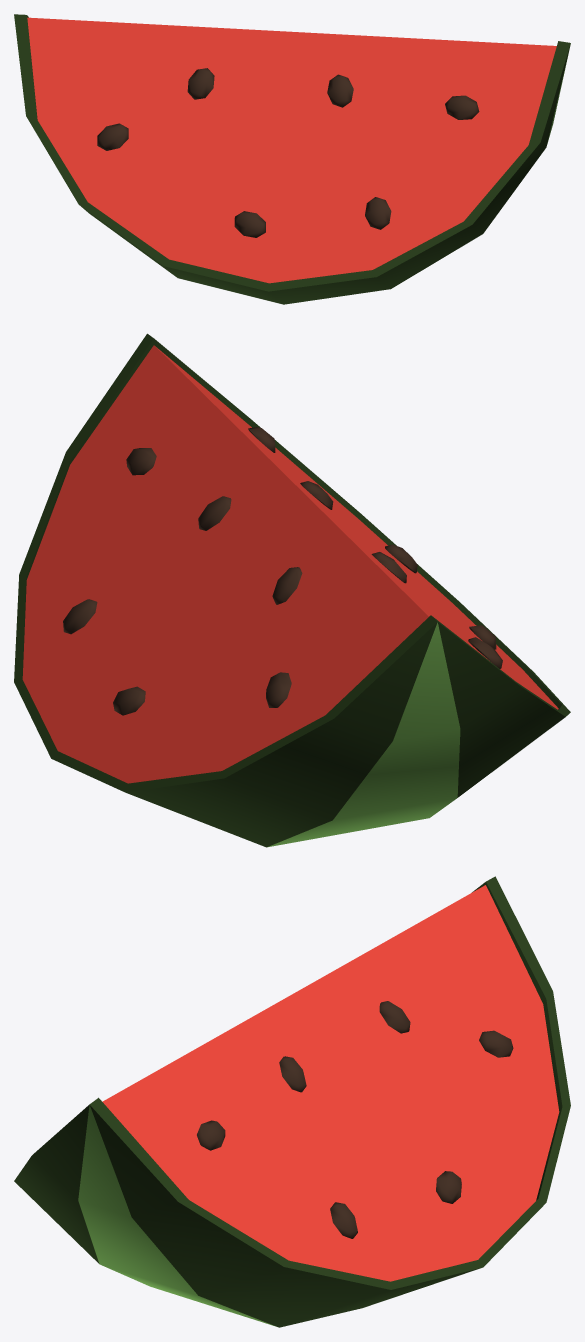
Rendered from Watermelon.fbx.
The picture shows the model from 3 angles, top to bottom: view 1: azimuth 30°, elevation 25°; view 2: azimuth 150°, elevation 25°; view 3: azimuth 270°, elevation 25°; orthographic projection. The views are drawn at different scales.
Parts seen in each view (by area): view 1: Watermelon; view 2: Watermelon; view 3: Watermelon.
Part boxes in pixels (x1,y1,x2,y2): Watermelon: (14,14,570,304); Watermelon: (14,333,570,847); Watermelon: (14,876,570,1327).
Size of the model in its own units: 135 by 72.84 by 124.
